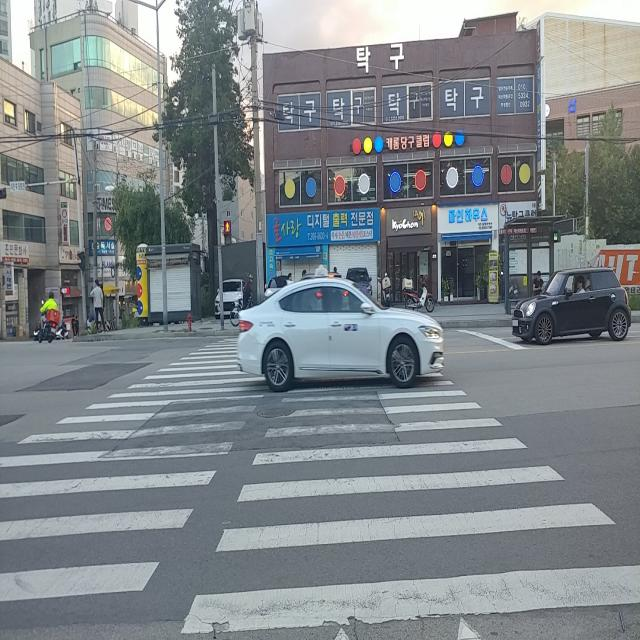빨간불: (223, 220, 232, 244)
횡단보도: (0, 337, 640, 638)
